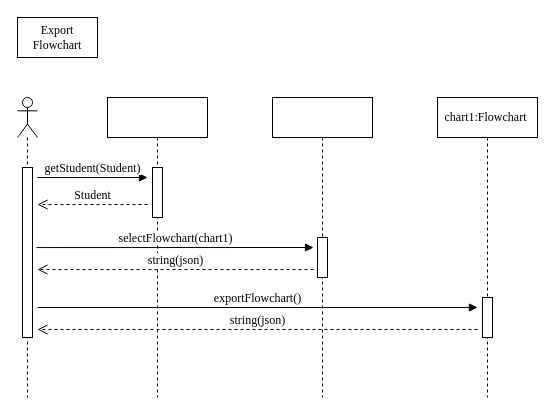
Image size: 555x415. Some labels were removed from this diagram. Here are the shapes that lost their labels. From the top down, the centre of each, then its label:
At (157,247): "MustangManager: Application".
At (322,247): "student1:Student".
